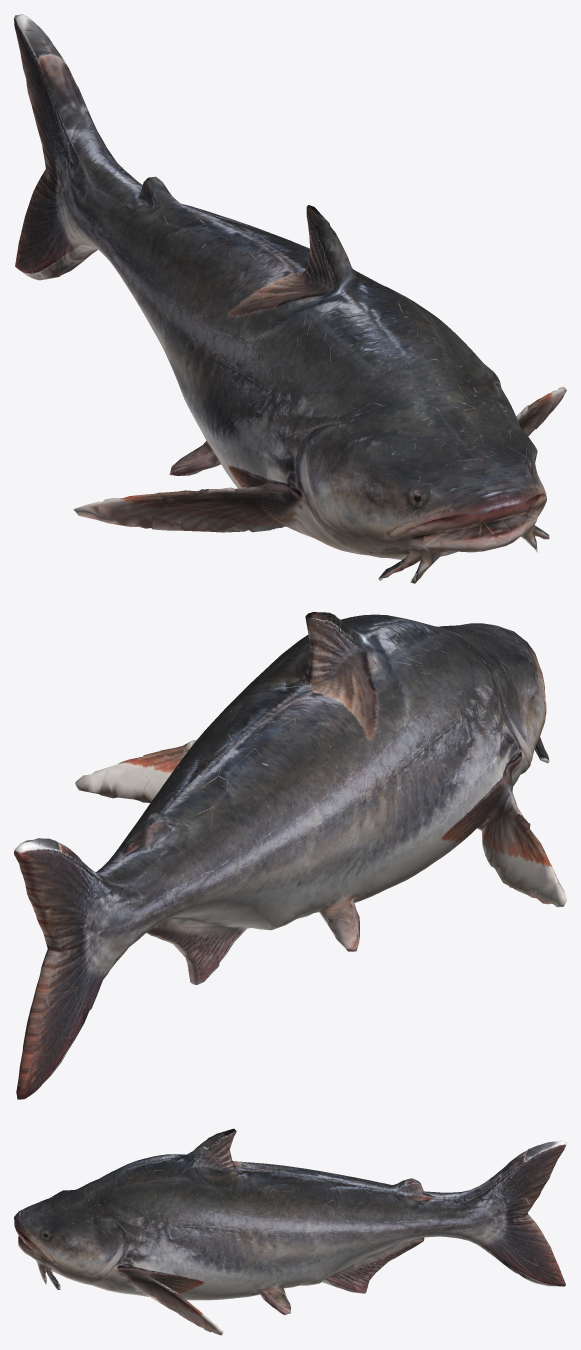
Rendered from fish_mekong.glb.
3 renders of one model, top to bottom at view 1: azimuth 30°, elevation 25°; view 2: azimuth 150°, elevation 25°; view 3: azimuth 270°, elevation 25°, orthographic. The views are drawn at different scales.
Parts seen in each view (by area): view 1: geometry_0; view 2: geometry_0; view 3: geometry_0.
Boxes of the visible parts, x1,y1,x2,y2 form: geometry_0: (14, 14, 566, 583); geometry_0: (14, 612, 566, 1099); geometry_0: (14, 1128, 566, 1335).
Bounding box in the file's own units: 1.15 × 0.6424 × 1.96.
1 material, 1 textured.
